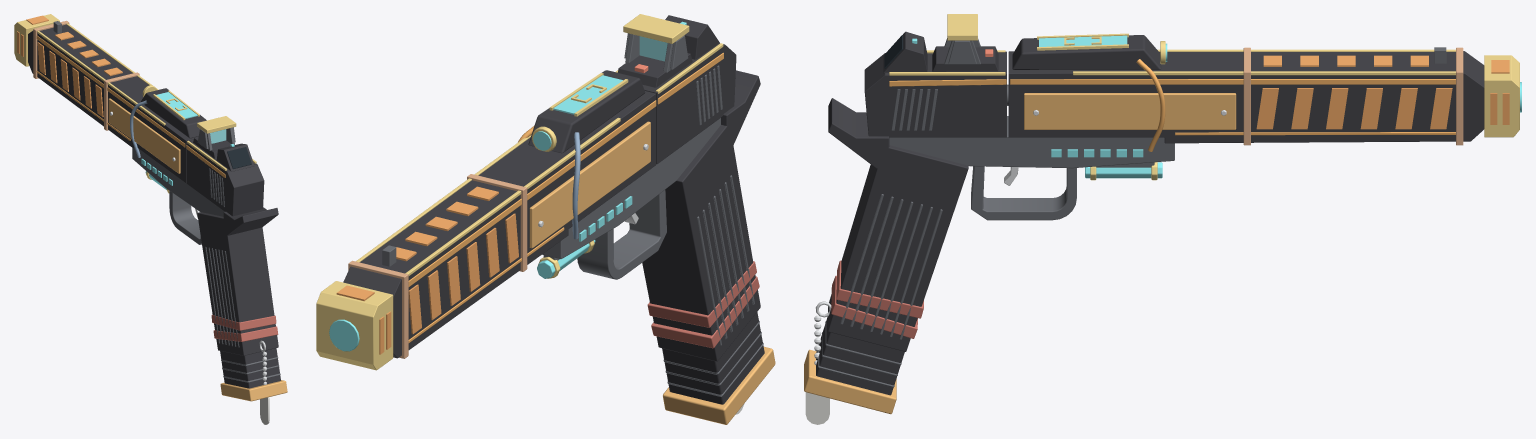
Rendered from smart_pistol_t5.glb.
The picture shows the model from 3 angles, left to right: view 1: azimuth 30°, elevation 25°; view 2: azimuth 150°, elevation 25°; view 3: azimuth 270°, elevation 25°; orthographic projection. The views are drawn at different scales.
Parts seen in each view (by area): view 1: Frame, Shroud, Slide, Details, MagBase, Vents, TrackerScreen, TrackerGlass, CharmTag; view 2: Shroud, Frame, Slide, Details, MagBase, Vents, TrackerScreen, TrackerGlass, HoloGlass; view 3: Shroud, Frame, Slide, Details, Vents, MagBase, TrackerScreen, TrackerGlass, CharmTag.
Part boxes in pixels (x1=…): Frame: x1=132, y1=148, x2=278, y2=355; Shroud: x1=14, y1=14, x2=198, y2=183; Slide: x1=186, y1=116, x2=264, y2=216; Details: x1=108, y1=85, x2=278, y2=341; MagBase: x1=220, y1=348, x2=287, y2=401; Vents: x1=17, y1=15, x2=122, y2=116; TrackerScreen: x1=141, y1=88, x2=206, y2=138; TrackerGlass: x1=153, y1=90, x2=199, y2=119; CharmTag: x1=260, y1=351, x2=269, y2=424; Shroud: x1=316, y1=91, x2=656, y2=370; Frame: x1=542, y1=70, x2=760, y2=361; Slide: x1=615, y1=14, x2=736, y2=164; Details: x1=518, y1=121, x2=759, y2=348; MagBase: x1=662, y1=312, x2=775, y2=424; Vents: x1=336, y1=186, x2=518, y2=354; TrackerScreen: x1=528, y1=70, x2=645, y2=153; TrackerGlass: x1=533, y1=73, x2=628, y2=150; HoloGlass: x1=639, y1=36, x2=667, y2=61; Shroud: x1=1007, y1=47, x2=1521, y2=145; Frame: x1=815, y1=98, x2=1174, y2=351; Slide: x1=864, y1=14, x2=1006, y2=137; Details: x1=831, y1=41, x2=1236, y2=338; Vents: x1=1256, y1=55, x2=1509, y2=129; MagBase: x1=804, y1=316, x2=904, y2=414; TrackerScreen: x1=1012, y1=35, x2=1161, y2=69; TrackerGlass: x1=1037, y1=33, x2=1167, y2=61; CharmTag: x1=805, y1=315, x2=829, y2=424.
Size of the model in its own units: 0.0412 by 0.2594 by 0.422.
